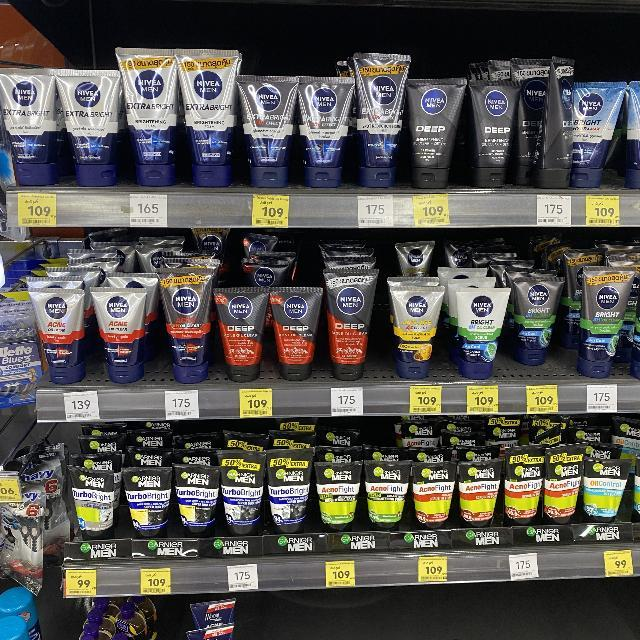Squeeze Tube: (2, 21, 640, 640)
